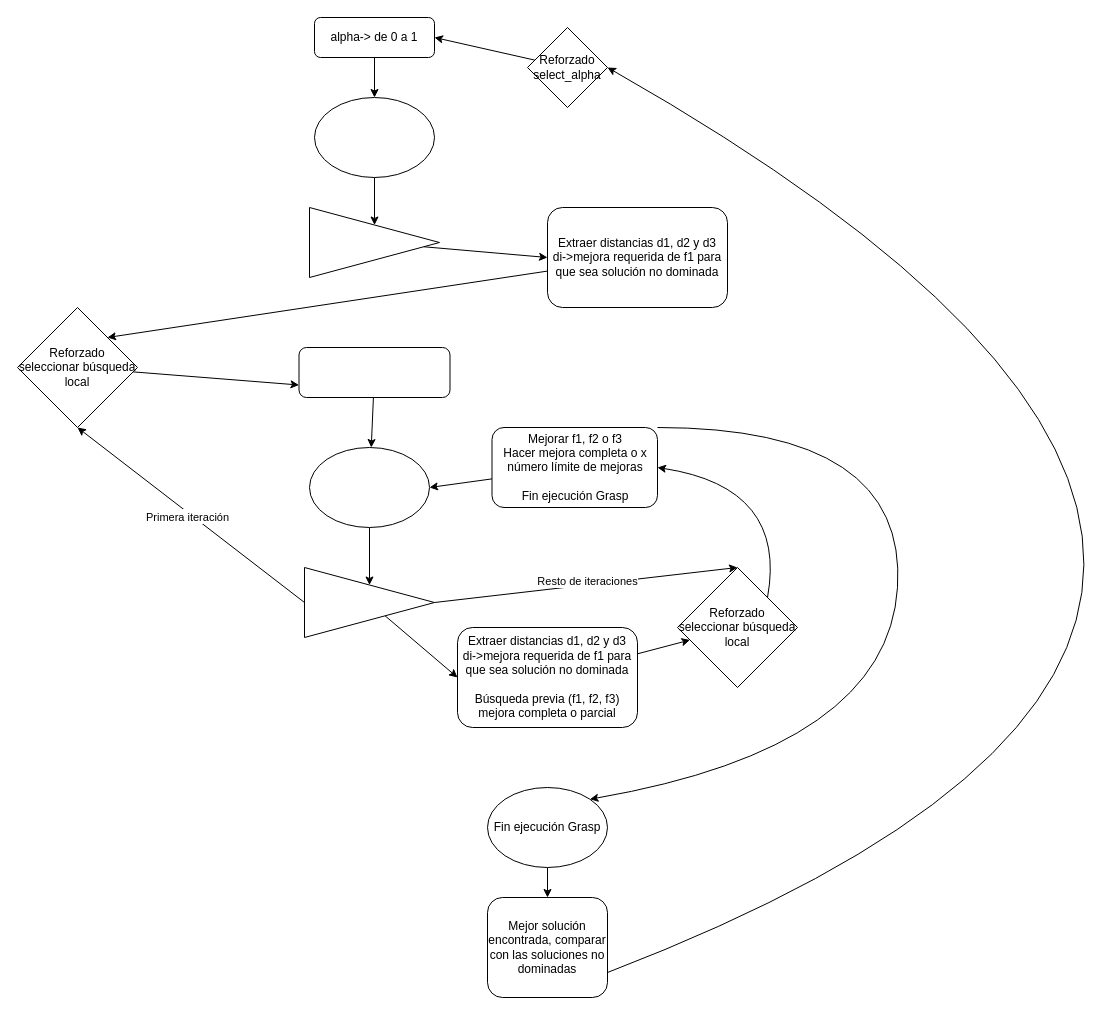
This 1102x1015 diagram has some shape labels left out. Here are the shapes that lost their labels. From the top down, the box of each, then its label:
(314, 96, 434, 178): Greedy
(308, 206, 440, 278): Solución_greedy
(298, 346, 450, 398): Mejorar f1, f2 o f3 Hacer mejora completa o x número límite de mejoras
(308, 446, 430, 528): Grasp
(304, 566, 434, 638): Solución grasp
